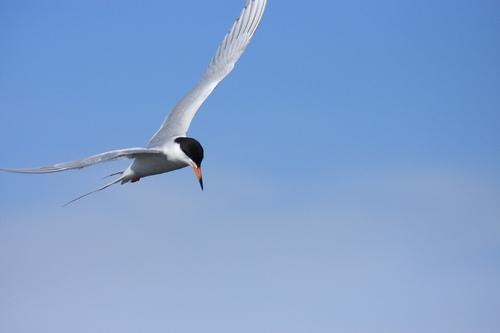bird: (4, 1, 265, 208)
